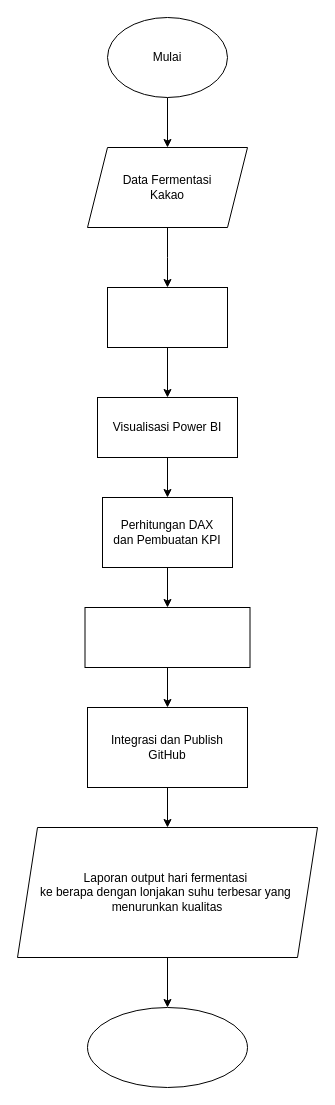
Some shapes in this 335 by 1105 pixel diagram are drawn without their labels. Each missing label, with the centre of its shape:
ETL: the point at 167,317
Pembuatan Website: the point at 167,637
Selesai: the point at 167,1047
